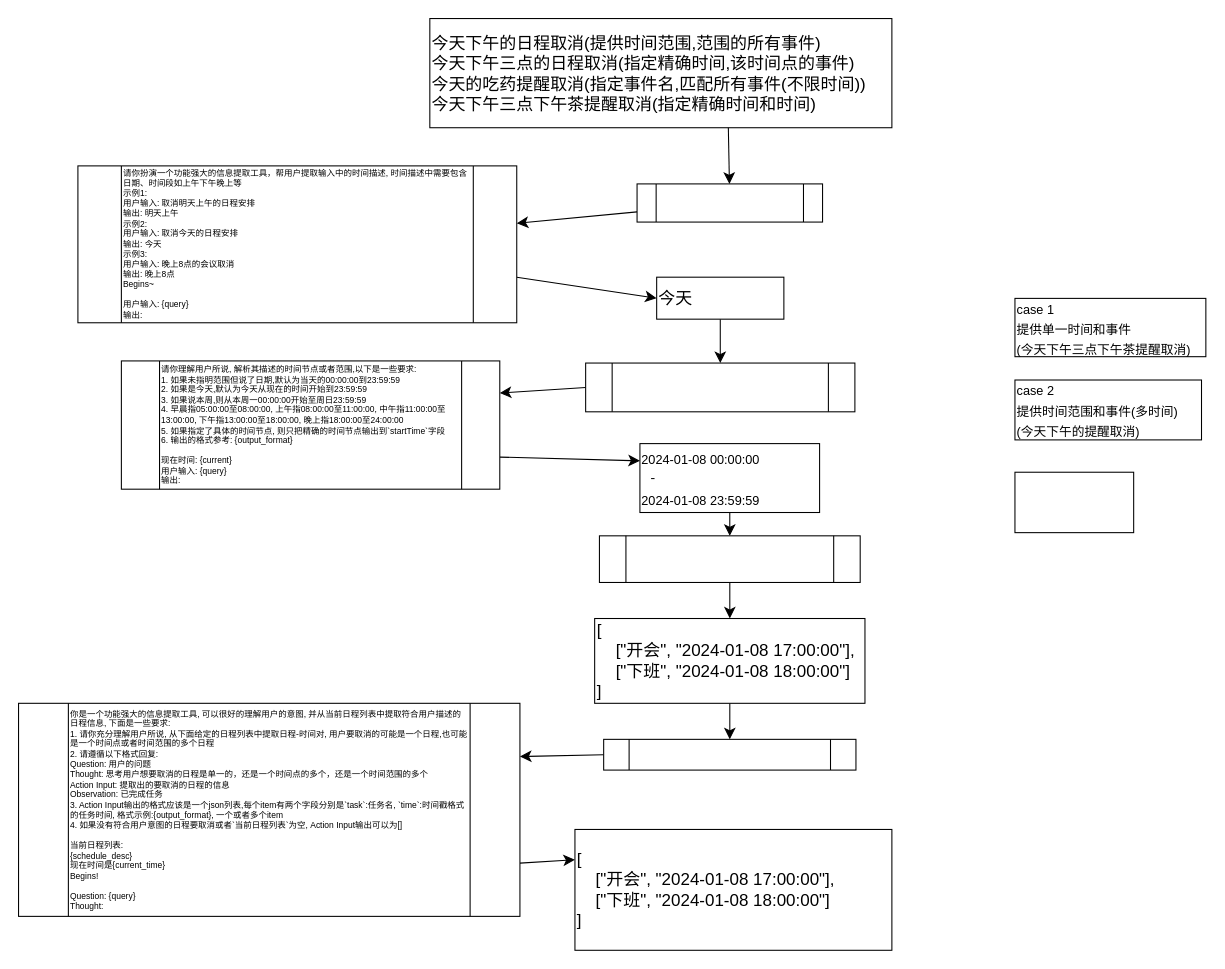
Some shapes in this 1225 by 969 pixel diagram are drawn without their labels. Here are the shapes that lost their labels. From the top down, the box of each, then its label:
(636, 183, 823, 222): react -> 取消日程
(585, 362, 855, 412): 解析时间描述为时间戳范围 （LLM）
(1014, 471, 1134, 533): case 3 提供时间范围 (今天的日程取消)
(598, 535, 860, 582): 查询指定范围的日程 （调用api）
(603, 738, 856, 770): 提取符合条件的任务名称
